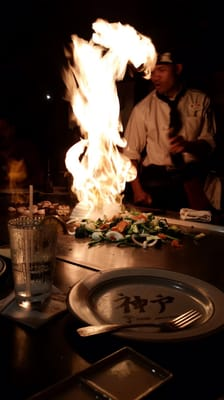pizza: (8, 217, 58, 310)
